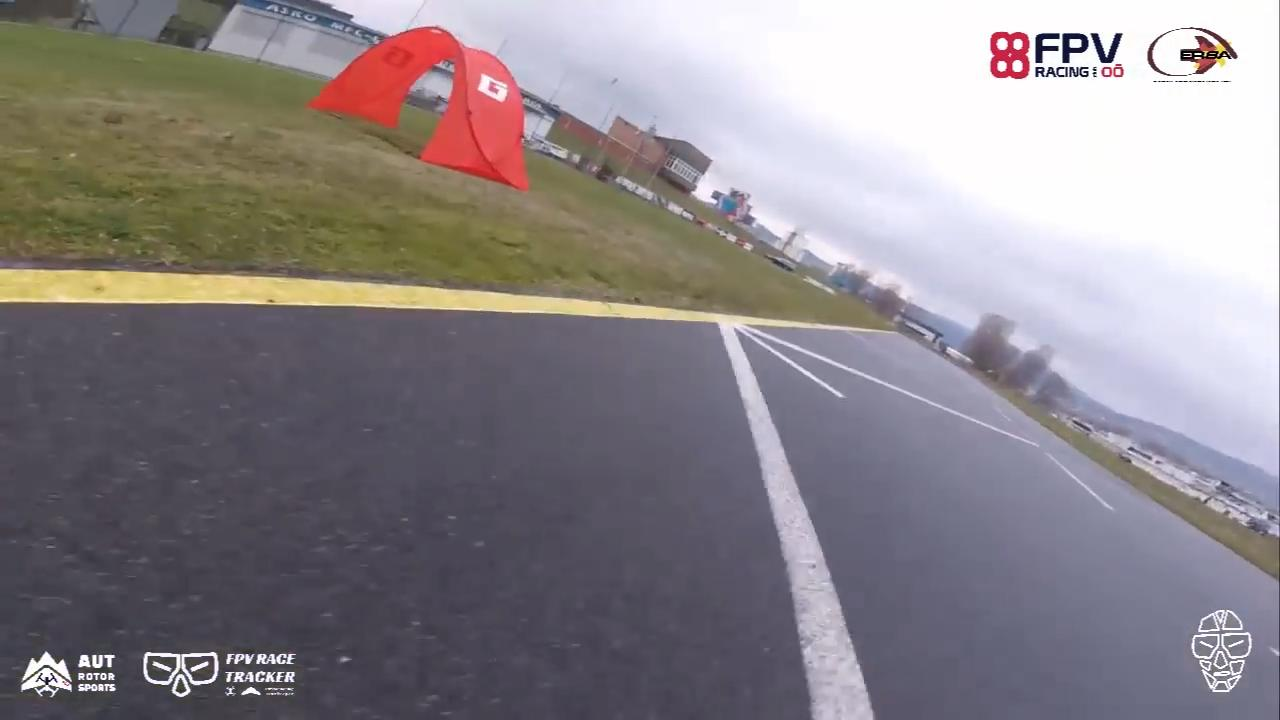gate: (307, 28, 532, 197)
